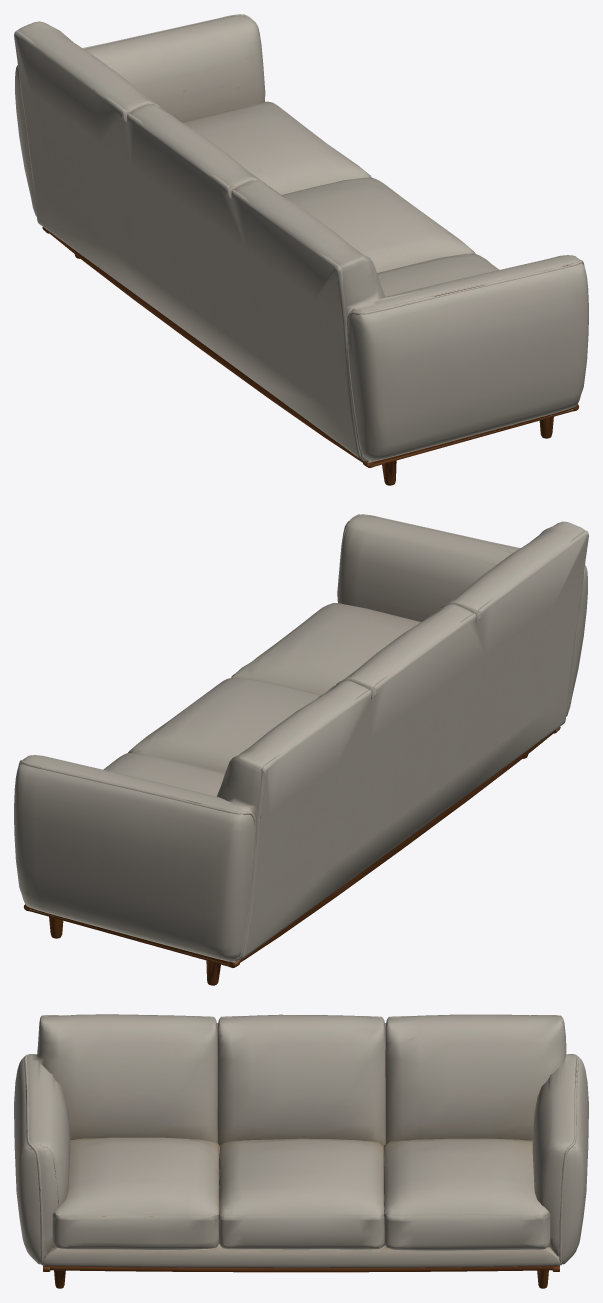
The model's file is sofa.glb.
3 renders of one model, top to bottom at view 1: azimuth 30°, elevation 25°; view 2: azimuth 150°, elevation 25°; view 3: azimuth 270°, elevation 25°, orthographic. The views are drawn at different scales.
Visible parts, largest first — view 1: tripo_node_109de23a-320f-40ff-9557-8284404c6825; view 2: tripo_node_109de23a-320f-40ff-9557-8284404c6825; view 3: tripo_node_109de23a-320f-40ff-9557-8284404c6825.
Part boxes in pixels (x1,y1,x2,y2): tripo_node_109de23a-320f-40ff-9557-8284404c6825: (14,14,588,485); tripo_node_109de23a-320f-40ff-9557-8284404c6825: (14,514,588,985); tripo_node_109de23a-320f-40ff-9557-8284404c6825: (14,1014,588,1288).
Bounding box in the file's own units: 0.4116 × 0.3716 × 0.9995.
1 material, 1 textured.
